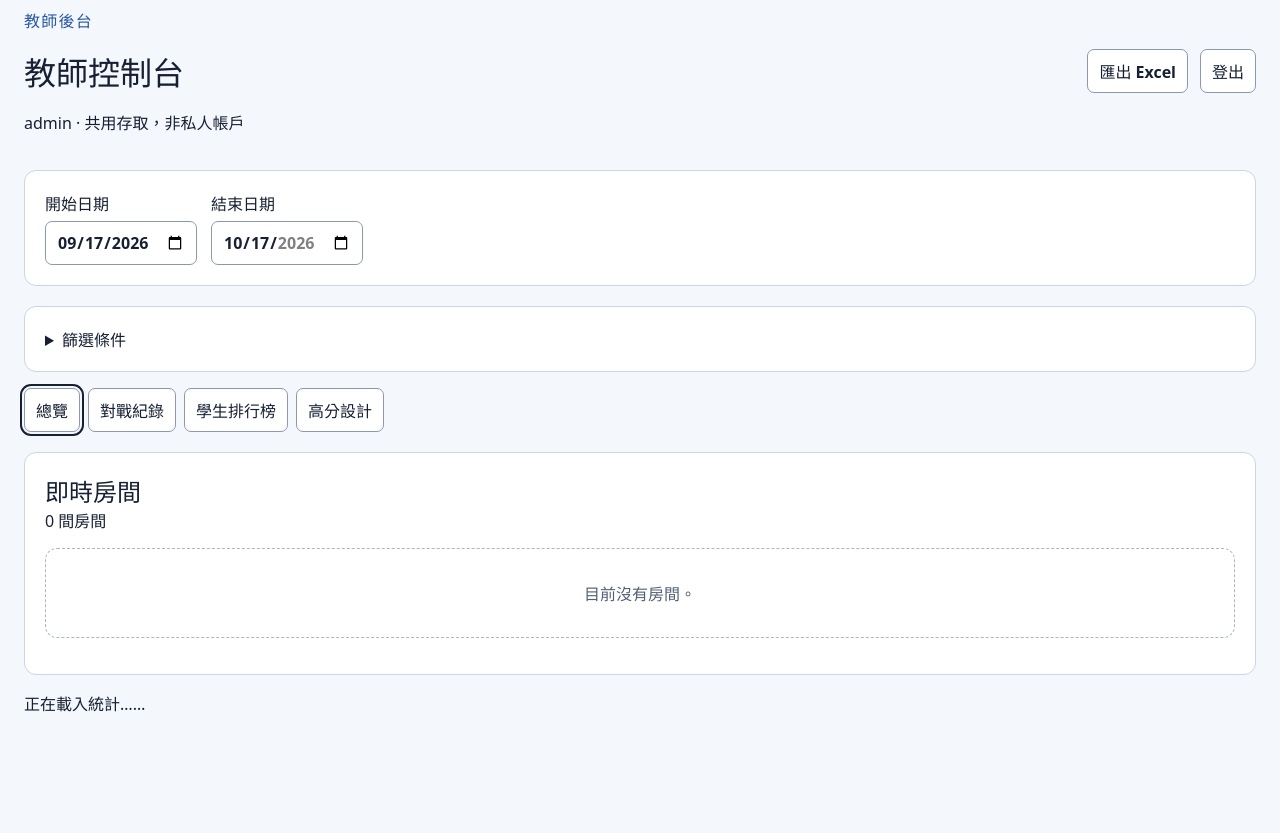
ignores late design responses after filters change and paginates independently
Step 1. Click the tab "高分設計" → (340,410), box left=296, top=388, right=384, bottom=432
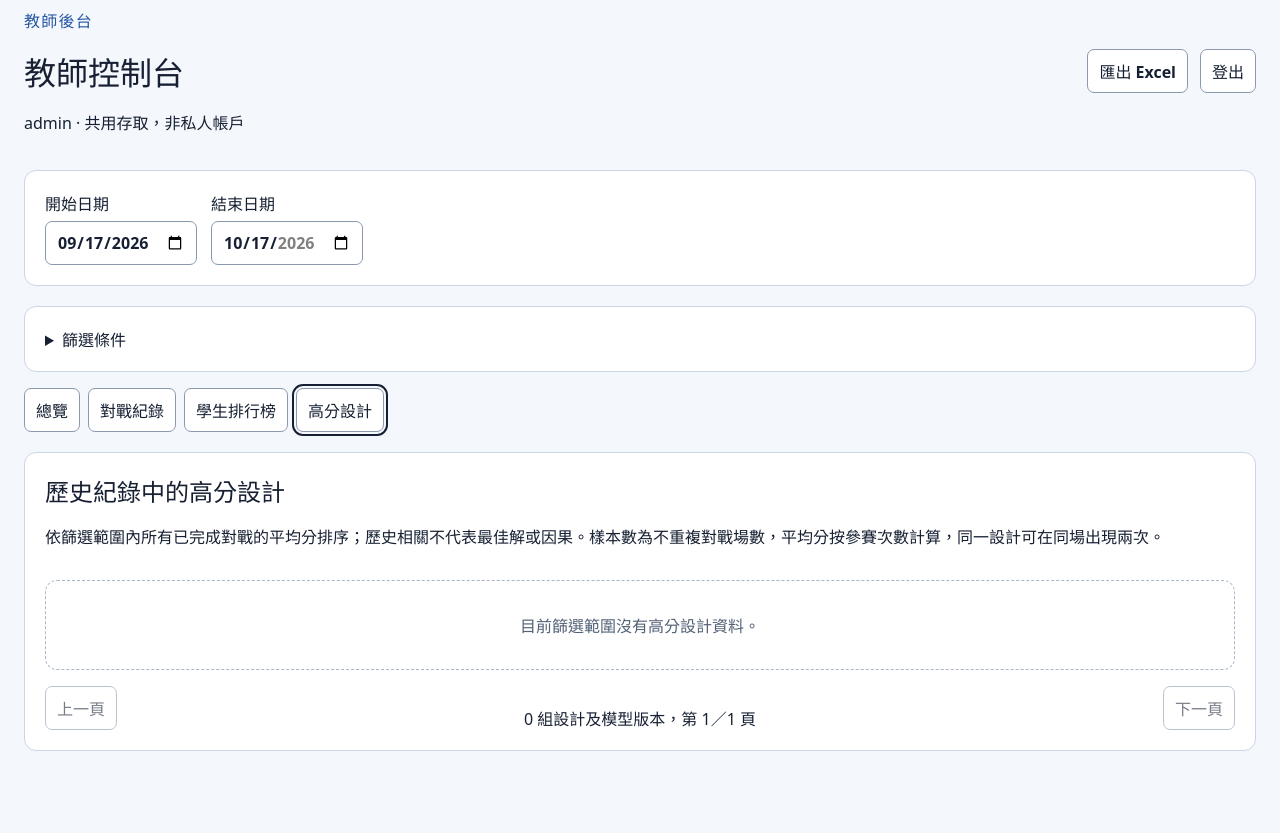
Step 2. Click the heading "篩選條件" → (94,340), box left=62, top=329, right=126, bottom=351
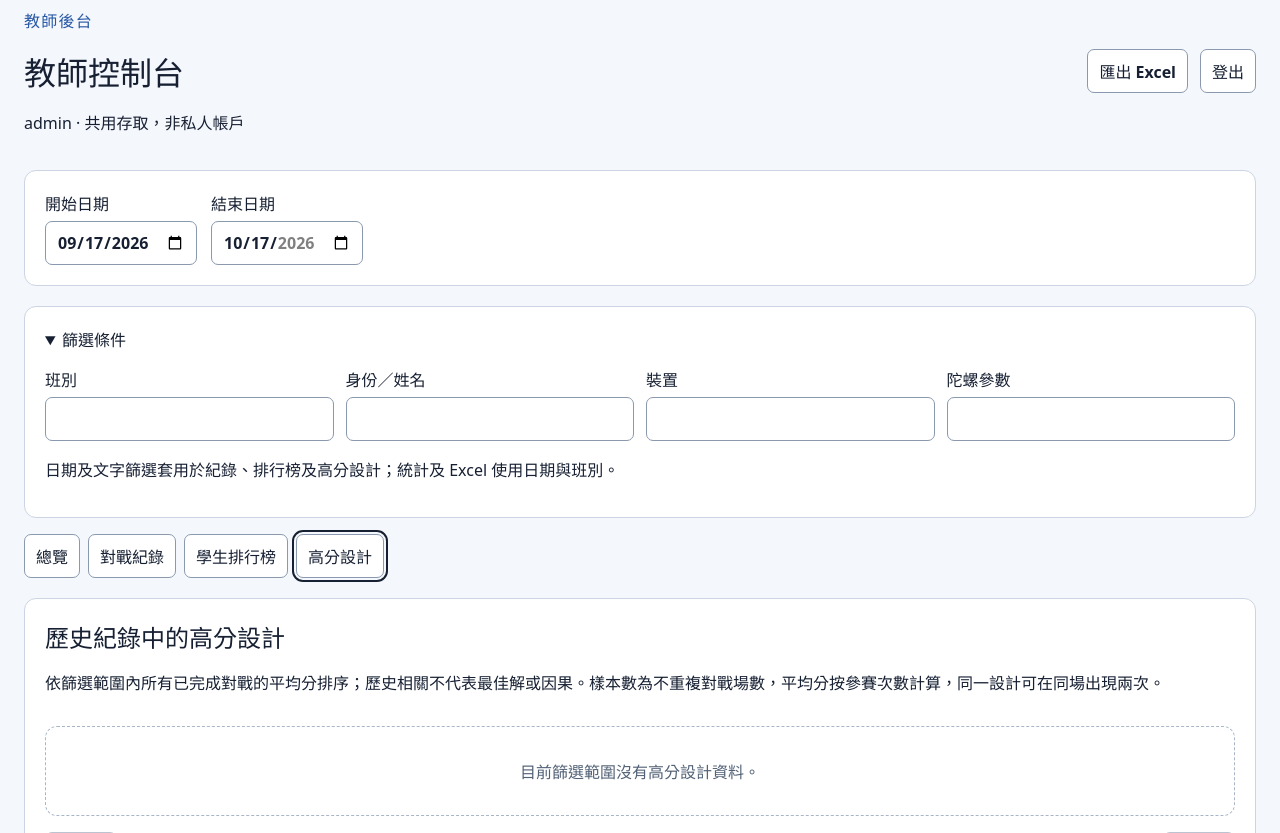
Step 3. Type "1A" into the search field labelled "班別" → (189,419), box left=45, top=397, right=334, bottom=441
(page scrolled)
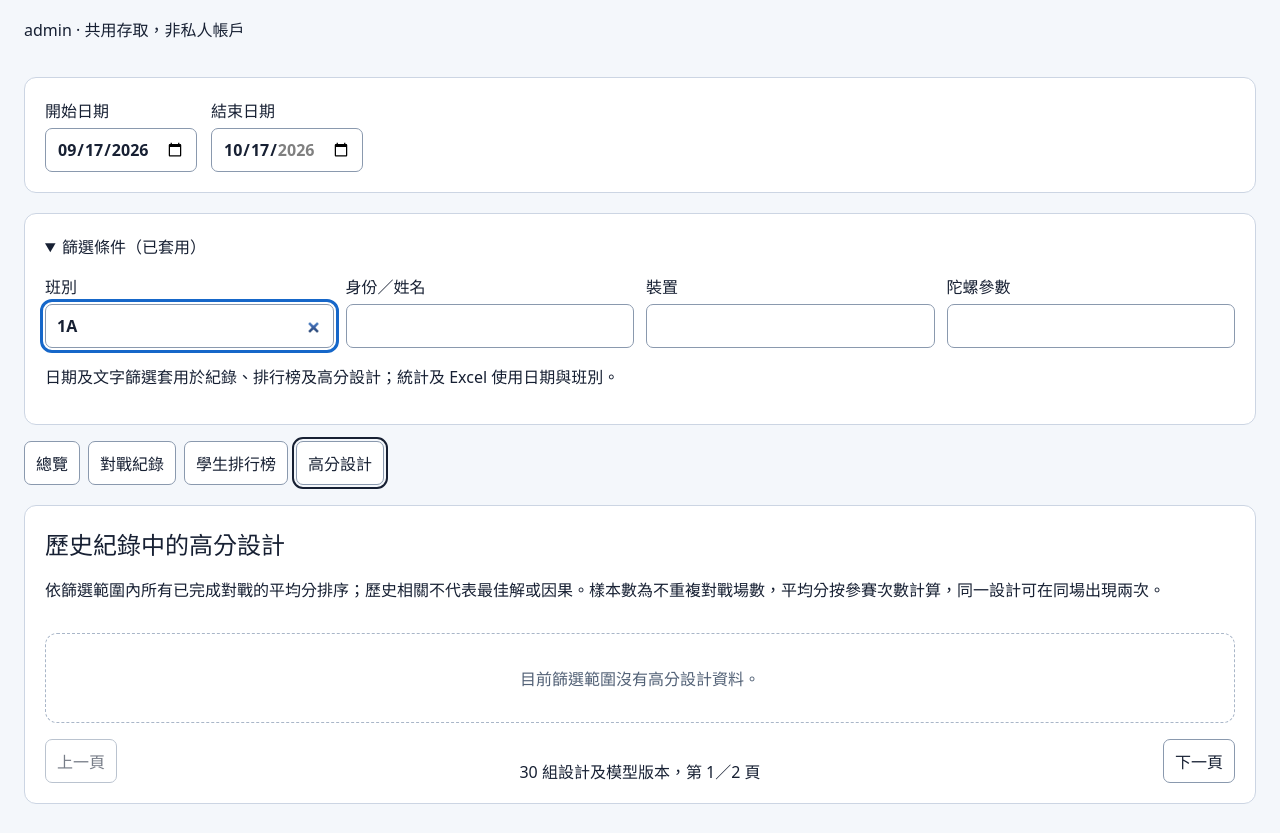
Now the text "30 組設計及模型版本，第 1／2 頁" is shown, box left=519, top=759, right=760, bottom=783
Step 4. Click the button "下一頁" → (1199,761), box left=1163, top=739, right=1235, bottom=783
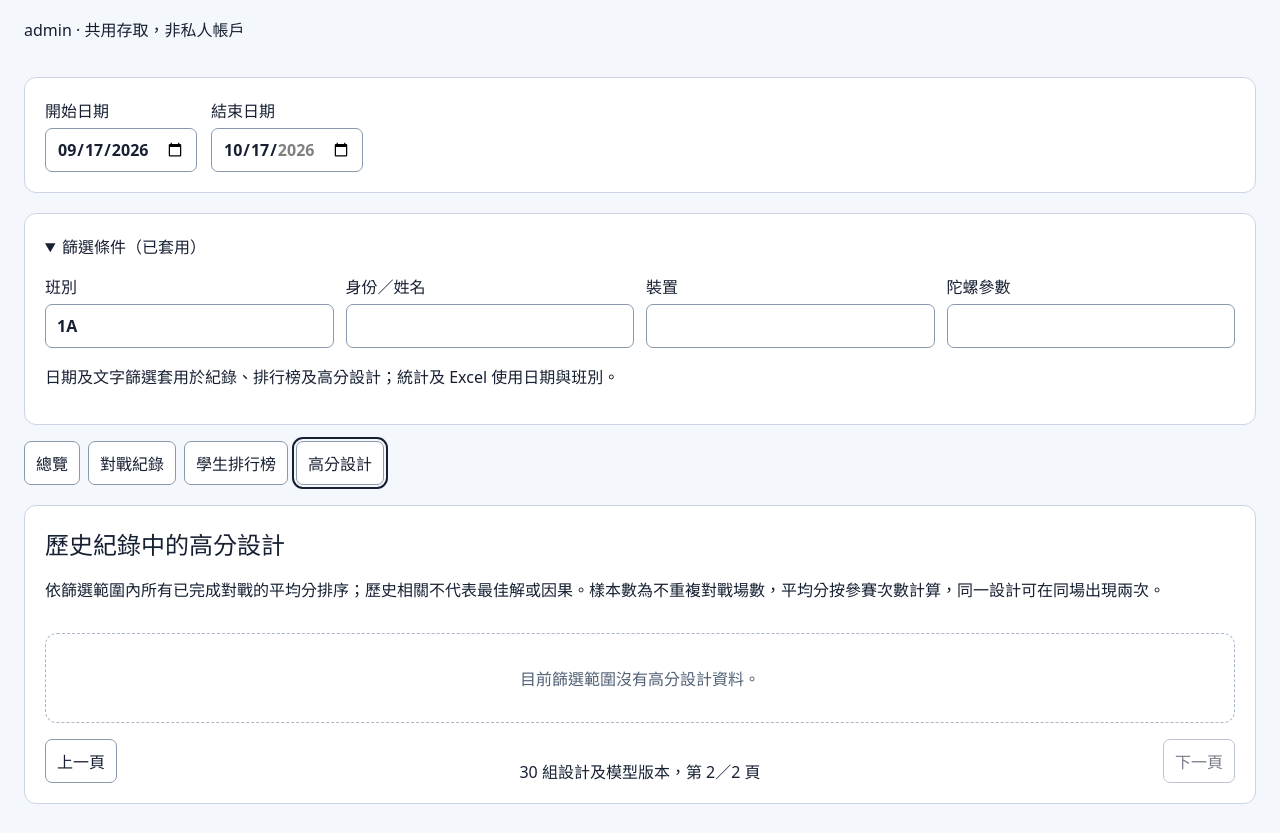
Now the text "30 組設計及模型版本，第 2／2 頁" is shown, box left=519, top=759, right=760, bottom=783
